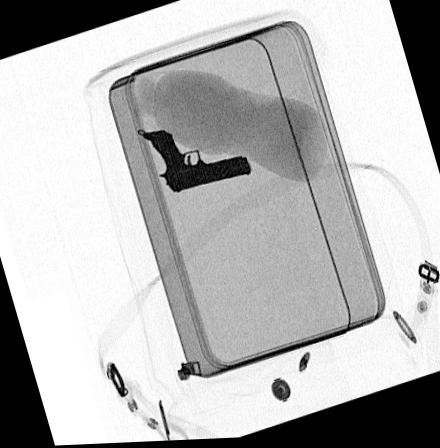Gun: (141, 130, 251, 193)
